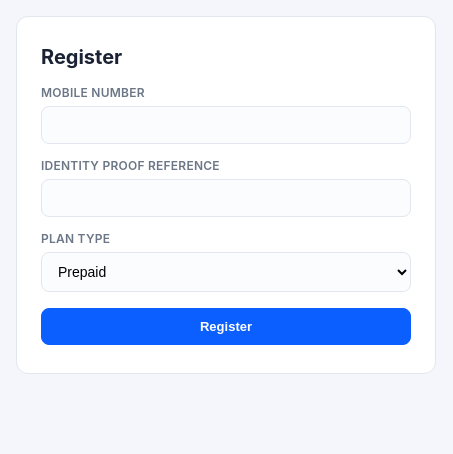
RegisterPage › shows an error message when registration fails
Type "9876543210" into the field labelled "Mobile number".
click(226, 125); type("9876543210")  # box [41,106,411,144]
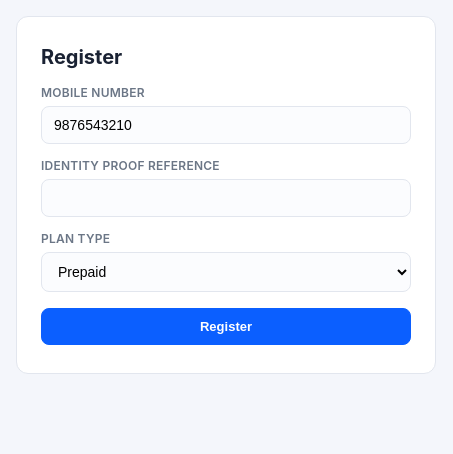
Type "AADHAAR-1234" into the field labelled "Identity proof reference".
click(226, 198); type("AADHAAR-1234")  # box [41,179,411,217]
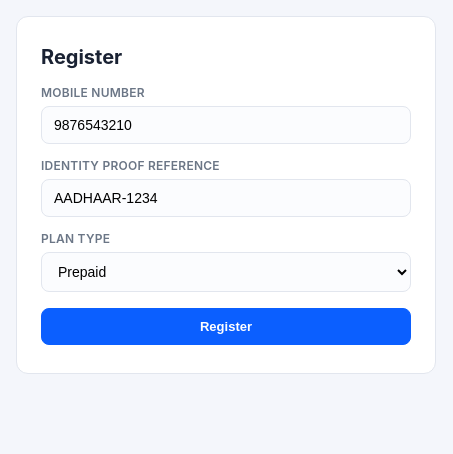
Click the button "Register".
click(226, 326)  # box [41,308,411,345]
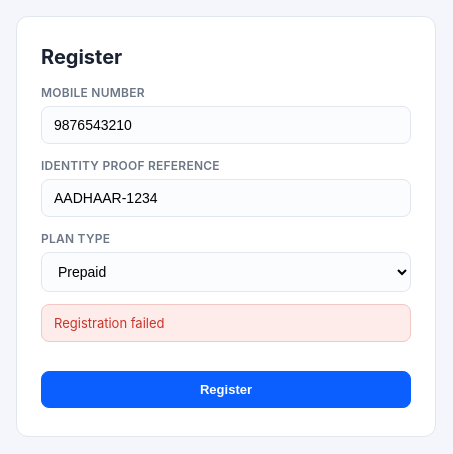
Result: the message "Registration failed" is shown at [41,304,411,342]
